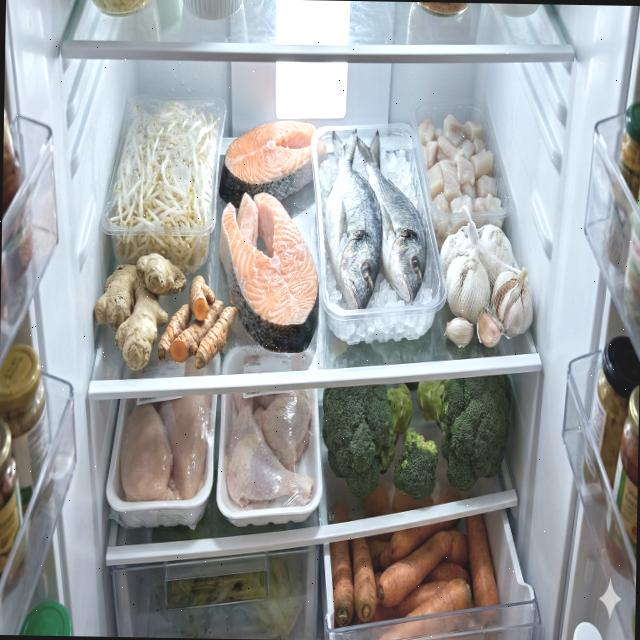bean_sprouts: (104, 100, 220, 274)
brocolli: (320, 382, 440, 501), (414, 373, 512, 492)
carrot: (328, 510, 500, 640)
chicken: (224, 386, 316, 509), (120, 392, 212, 502)
fish: (323, 127, 429, 310), (217, 191, 321, 353), (218, 118, 327, 210)
garlic: (438, 222, 534, 350)
ginger: (92, 252, 186, 372)
turmeric: (158, 274, 236, 370)
